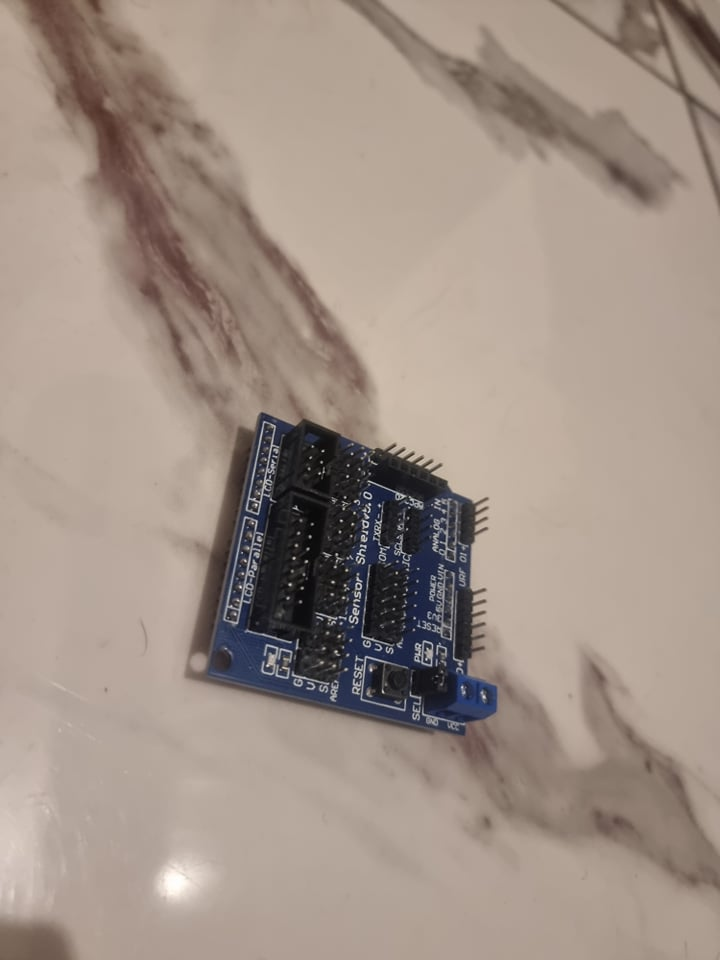5V EXPANSION: (202, 410, 501, 739)
